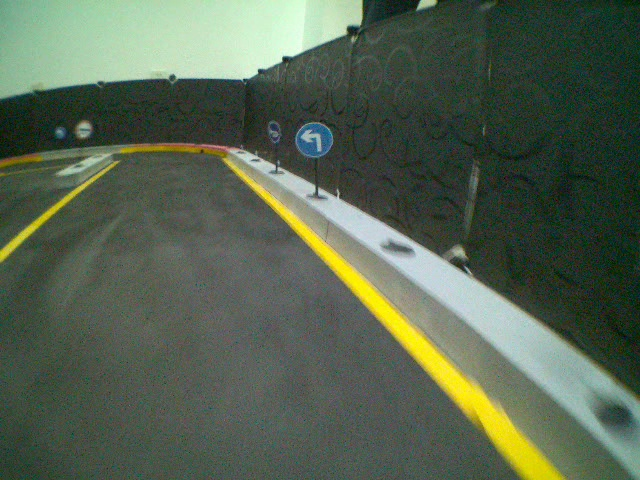Check: (75, 120, 92, 140)
horn: (266, 119, 282, 146)
turn: (296, 121, 336, 159)
